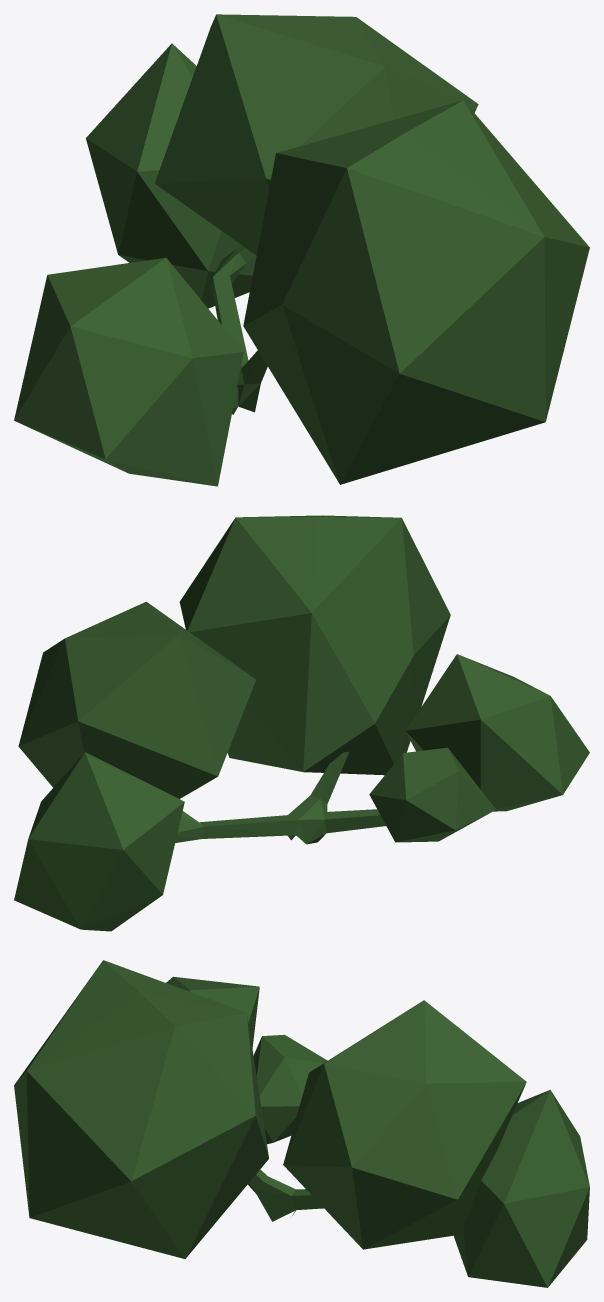
Rendered from bush_2.glb.
The picture shows the model from 3 angles, top to bottom: view 1: azimuth 30°, elevation 25°; view 2: azimuth 150°, elevation 25°; view 3: azimuth 270°, elevation 25°; orthographic projection. The views are drawn at different scales.
Visible parts, largest first — view 1: Tree1 small.010_Material.057_0; view 2: Tree1 small.010_Material.057_0; view 3: Tree1 small.010_Material.057_0.
Boxes of the visible parts, left/top/right/bottom form: Tree1 small.010_Material.057_0: left=14, top=14, right=589, bottom=486; Tree1 small.010_Material.057_0: left=14, top=515, right=589, bottom=931; Tree1 small.010_Material.057_0: left=14, top=960, right=589, bottom=1287.
Size of the model in its own units: 1.64 by 1 by 1.87.
